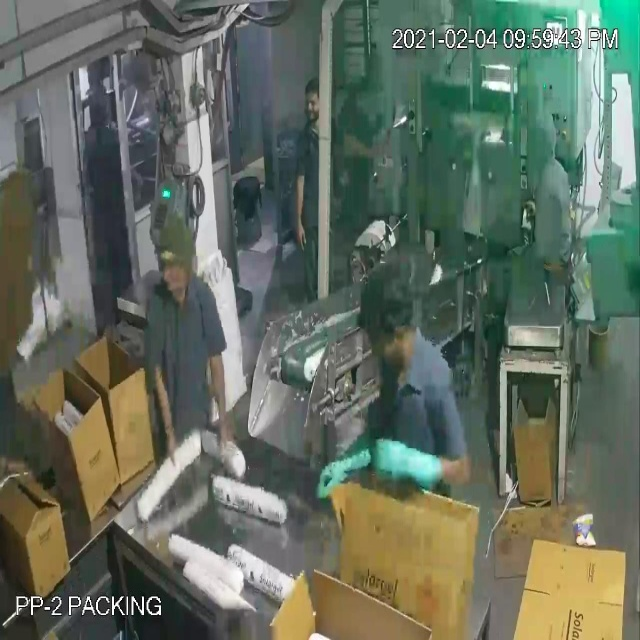Guantes: (371, 425, 476, 509), (301, 415, 382, 509)
Sin_guantes: (140, 340, 183, 469), (205, 329, 236, 463), (335, 119, 392, 172), (292, 164, 316, 263)
